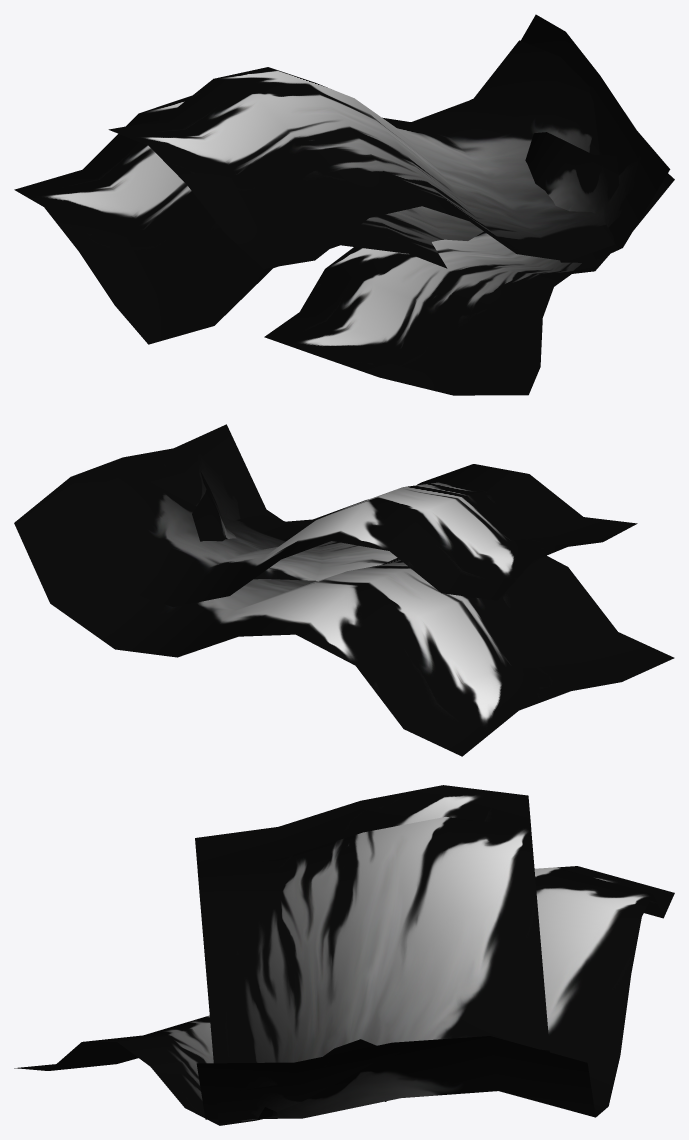
Rendered from LeftWing.FBX.
The picture shows the model from 3 angles, top to bottom: view 1: azimuth 30°, elevation 25°; view 2: azimuth 150°, elevation 25°; view 3: azimuth 270°, elevation 25°; orthographic projection. The views are drawn at different scales.
Parts seen in each view (by area): view 1: Plane02; view 2: Plane02; view 3: Plane02.
Part boxes in pixels (box(x1,y1,x2,y2)): Plane02: box(14, 14, 674, 395); Plane02: box(14, 424, 674, 756); Plane02: box(14, 785, 674, 1125).
Bounding box in the file's own units: 127 × 47.49 × 123.
1 material, 1 textured.
